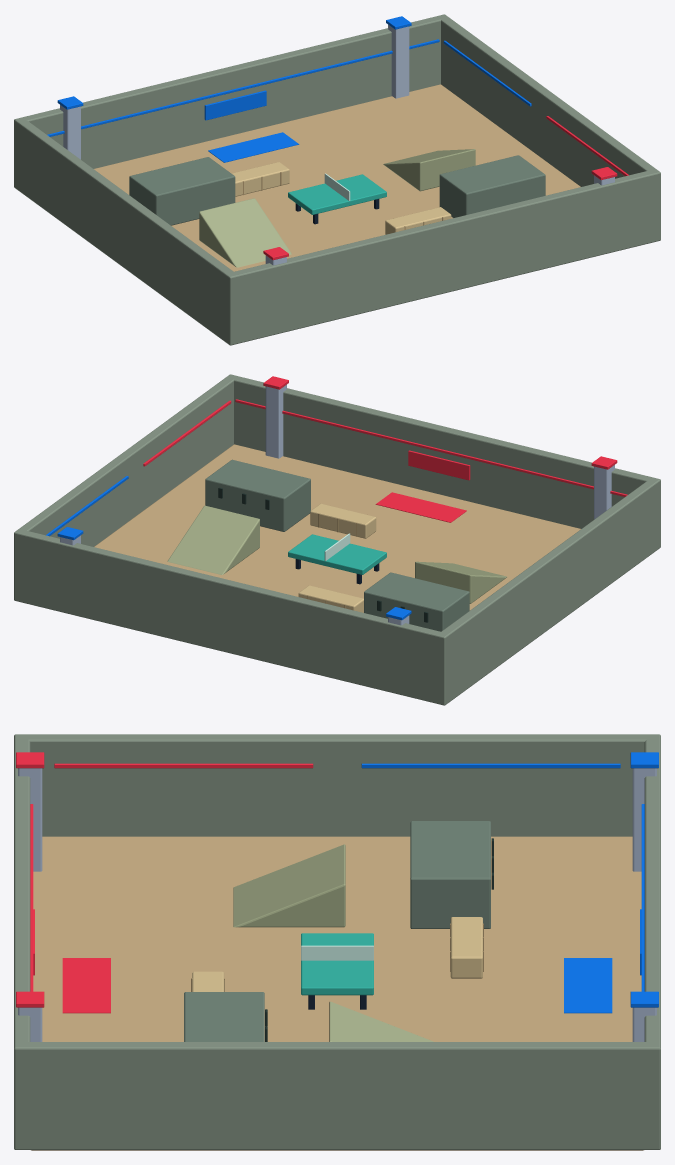
The model's file is Campo.glb.
The picture shows the model from 3 angles, top to bottom: view 1: azimuth 30°, elevation 25°; view 2: azimuth 150°, elevation 25°; view 3: azimuth 270°, elevation 25°; orthographic projection. The views are drawn at different scales.
Visible parts, largest first — view 1: Campo_PB_8a9a8a, Campo_PB_cfb386, Campo_PB_72877a, Campo_PB_a9b48d, Campo_PB_087bff, Campo_PB_b5c6df, Campo_PB_dfc895, Campo_PB_32bbaa, Campo_PB_ff304b; view 2: Campo_PB_8a9a8a, Campo_PB_cfb386, Campo_PB_72877a, Campo_PB_a9b48d, Campo_PB_ff304b, Campo_PB_dfc895, Campo_PB_b5c6df, Campo_PB_32bbaa, Campo_PB_087bff; view 3: Campo_PB_8a9a8a, Campo_PB_cfb386, Campo_PB_72877a, Campo_PB_a9b48d, Campo_PB_087bff, Campo_PB_ff304b, Campo_PB_b5c6df, Campo_PB_32bbaa, Campo_PB_dfc895, Campo_PB_d8fff5.
Boxes of the visible parts, <box> form: Campo_PB_8a9a8a: <box>14,14,660,345</box>; Campo_PB_cfb386: <box>94,84,580,271</box>; Campo_PB_72877a: <box>129,155,545,225</box>; Campo_PB_a9b48d: <box>199,149,475,267</box>; Campo_PB_087bff: <box>47,16,531,162</box>; Campo_PB_b5c6df: <box>60,24,614,265</box>; Campo_PB_dfc895: <box>231,162,451,234</box>; Campo_PB_32bbaa: <box>288,174,386,214</box>; Campo_PB_ff304b: <box>263,116,628,260</box>; Campo_PB_8a9a8a: <box>14,374,660,705</box>; Campo_PB_cfb386: <box>94,444,580,610</box>; Campo_PB_72877a: <box>205,459,469,631</box>; Campo_PB_a9b48d: <box>167,505,506,603</box>; Campo_PB_ff304b: <box>143,376,627,522</box>; Campo_PB_dfc895: <box>298,503,376,612</box>; Campo_PB_b5c6df: <box>60,384,614,625</box>; Campo_PB_32bbaa: <box>288,534,386,574</box>; Campo_PB_087bff: <box>46,476,411,620</box>; Campo_PB_8a9a8a: <box>14,734,660,1149</box>; Campo_PB_cfb386: <box>31,836,643,1150</box>; Campo_PB_72877a: <box>184,821,490,1041</box>; Campo_PB_a9b48d: <box>233,844,433,1041</box>; Campo_PB_087bff: <box>361,752,658,1013</box>; Campo_PB_ff304b: <box>16,752,313,1013</box>; Campo_PB_b5c6df: <box>18,768,656,1041</box>; Campo_PB_32bbaa: <box>301,933,373,995</box>; Campo_PB_dfc895: <box>192,917,482,991</box>; Campo_PB_d8fff5: <box>301,945,373,960</box>.
Size of the model in its own units: 25.76 by 4.7 by 22.4.
